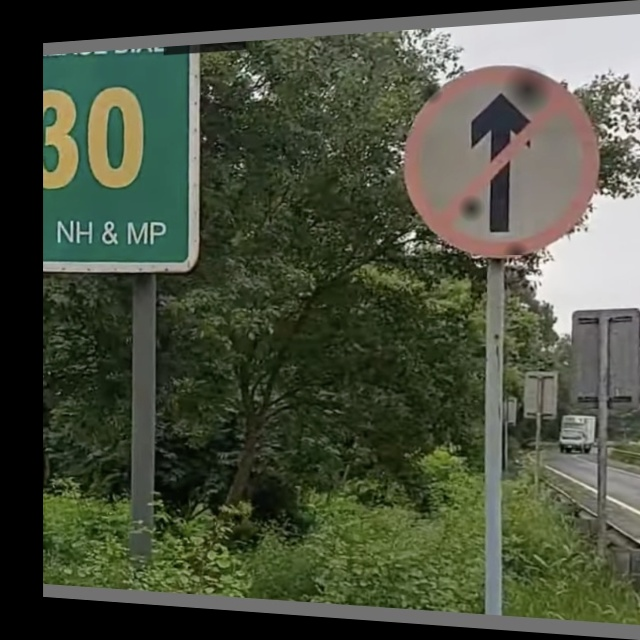No_Entry: (406, 58, 601, 255)
